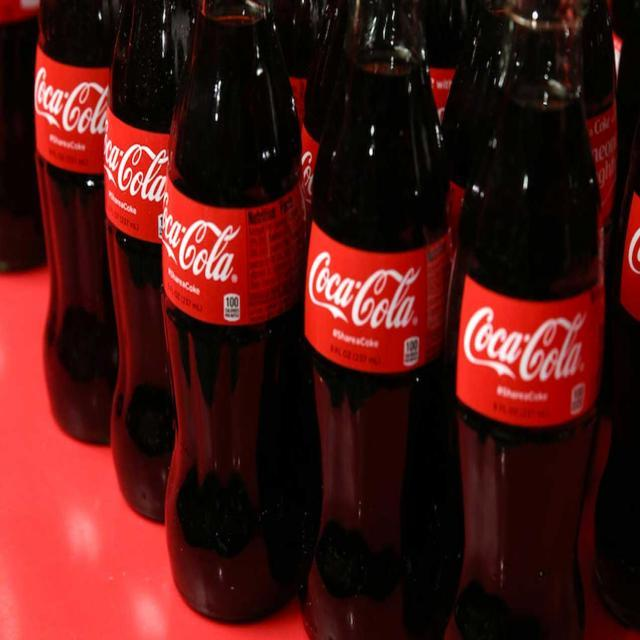Coke: (449, 7, 604, 640), (300, 1, 450, 640), (157, 3, 306, 625), (306, 1, 447, 640)
